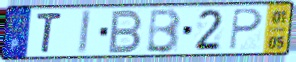2: (191, 8, 227, 52)
B: (144, 7, 183, 55), (106, 8, 145, 55)
I: (76, 9, 93, 56)
P: (228, 8, 264, 53)
T: (35, 11, 64, 55)
